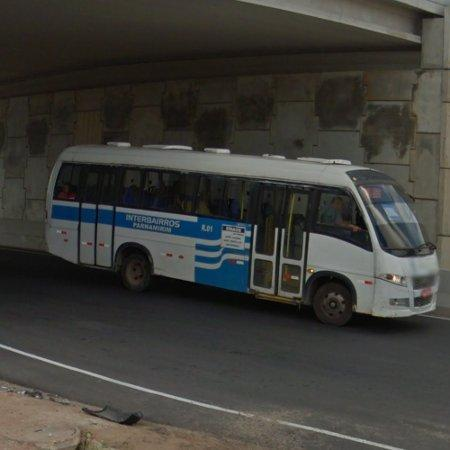buses: (46, 146, 440, 324)
